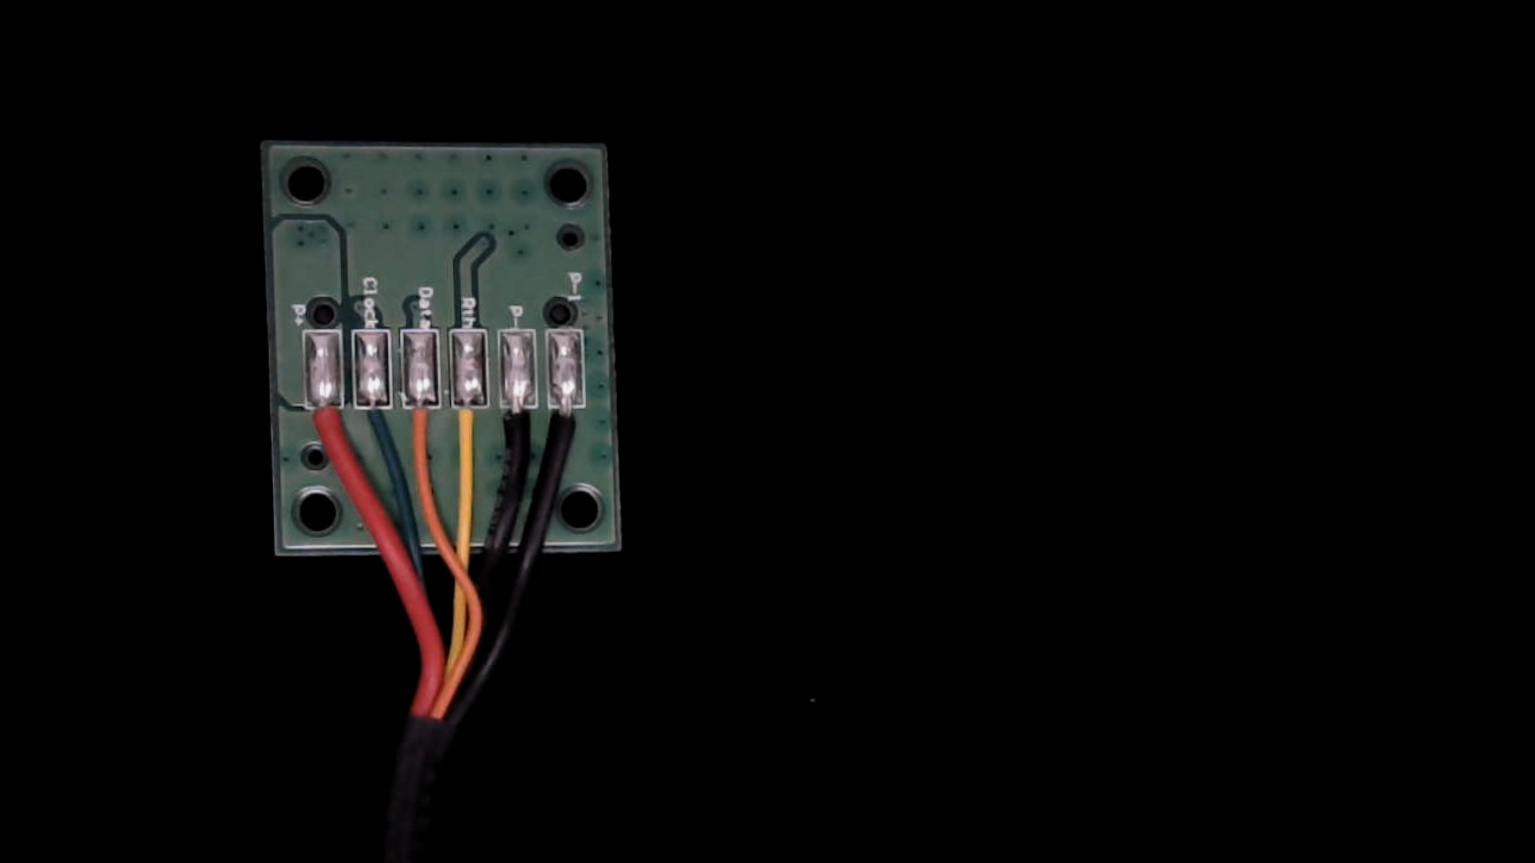Black: (497, 385, 540, 475)
Black1: (548, 383, 590, 466)
Green: (352, 378, 395, 454)
Orange: (401, 380, 443, 470)
Red: (305, 383, 349, 469)
Yellow: (452, 384, 496, 475)
